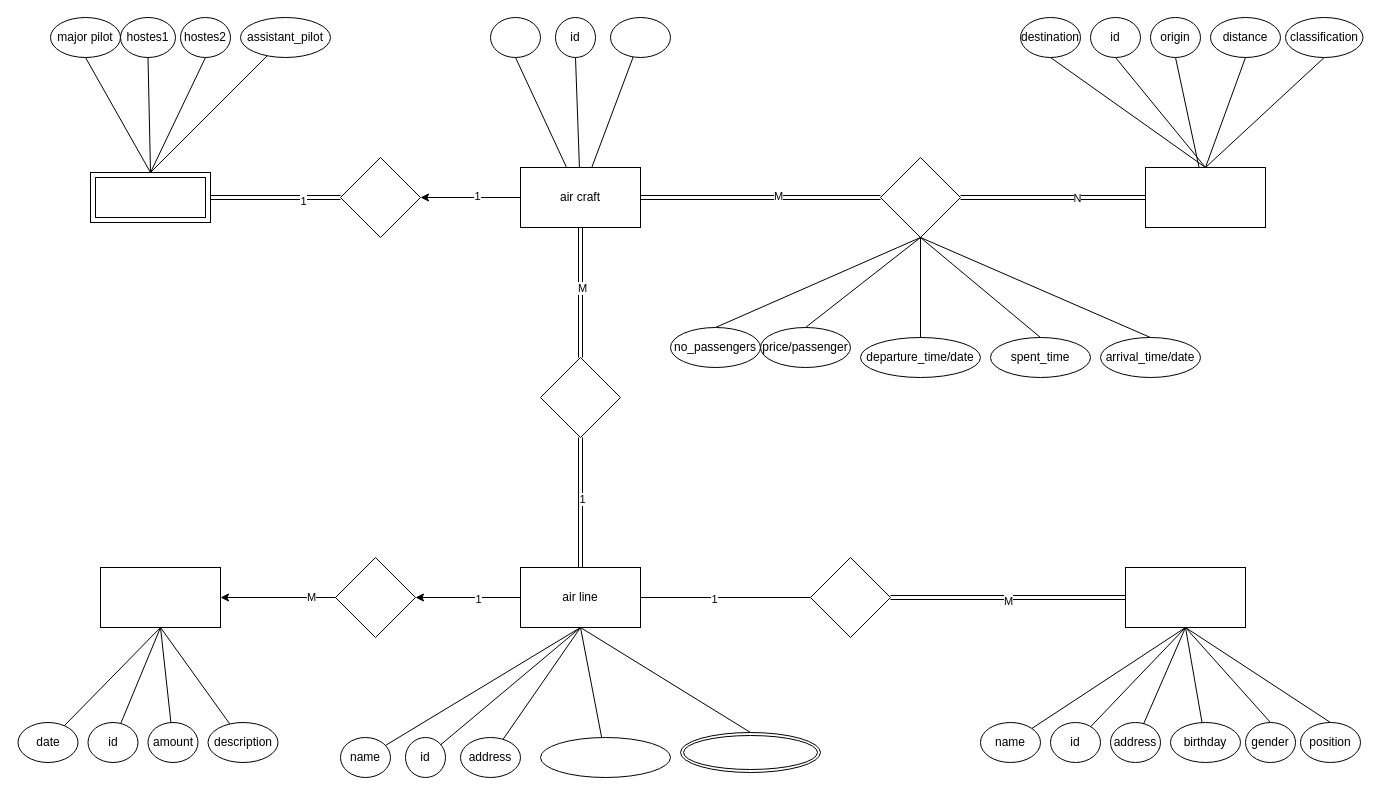
Some shapes in this 1380 by 795 pixel diagram are drawn without their labels. Each missing label, with the centre of its shape:
assign: the point at 920,197
buy/sell: the point at 375,597
capacity: the point at 515,37
contact_person_name: the point at 605,757
crew: the point at 150,197
employee: the point at 1185,597
has: the point at 380,197
modal: the point at 640,37
own: the point at 580,397
route: the point at 1205,197
telephone_numbers: the point at 750,752
transaction: the point at 160,597
work: the point at 850,597
